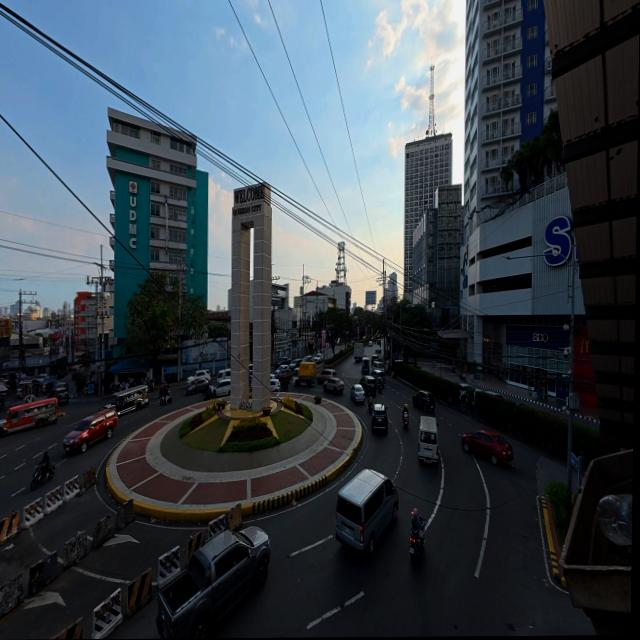Jeepneys: (0, 399, 58, 435), (112, 385, 148, 415), (361, 356, 370, 375)
car: (336, 469, 399, 554), (63, 408, 117, 452), (461, 429, 513, 464), (186, 376, 210, 395), (372, 404, 388, 432), (413, 391, 435, 411), (49, 383, 69, 405), (186, 370, 210, 385), (323, 377, 344, 394), (316, 368, 337, 384), (360, 375, 376, 395), (215, 378, 231, 398), (459, 383, 473, 405), (275, 366, 291, 382), (476, 390, 504, 399), (351, 384, 365, 402), (370, 369, 384, 386), (269, 379, 280, 393), (289, 359, 302, 370), (277, 357, 290, 367), (275, 364, 289, 373), (371, 354, 379, 366), (36, 374, 47, 382), (292, 366, 299, 378), (314, 354, 323, 363), (302, 356, 313, 362), (376, 348, 382, 358), (270, 373, 275, 379), (336, 338, 340, 345), (369, 341, 373, 347), (0, 402, 0, 416)
motorcycle: (410, 517, 424, 563), (31, 464, 55, 490), (159, 392, 173, 405), (203, 384, 215, 399), (280, 379, 290, 391), (145, 378, 154, 391), (458, 371, 466, 381), (403, 412, 408, 428), (0, 396, 5, 409), (378, 384, 383, 394), (369, 401, 373, 413)
trucks: (157, 527, 270, 638), (295, 362, 317, 386), (355, 343, 364, 361)
vans: (336, 469, 398, 554), (418, 417, 438, 463), (217, 369, 230, 383), (372, 361, 385, 372)
